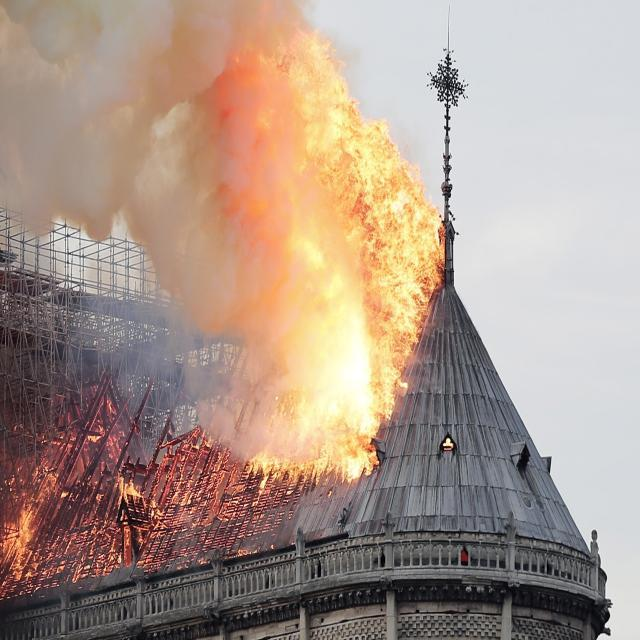Fire: (248, 35, 445, 483), (0, 393, 123, 594), (158, 428, 300, 556), (116, 476, 154, 564), (442, 432, 454, 450)
Smoke: (129, 0, 245, 331), (0, 0, 130, 244)
